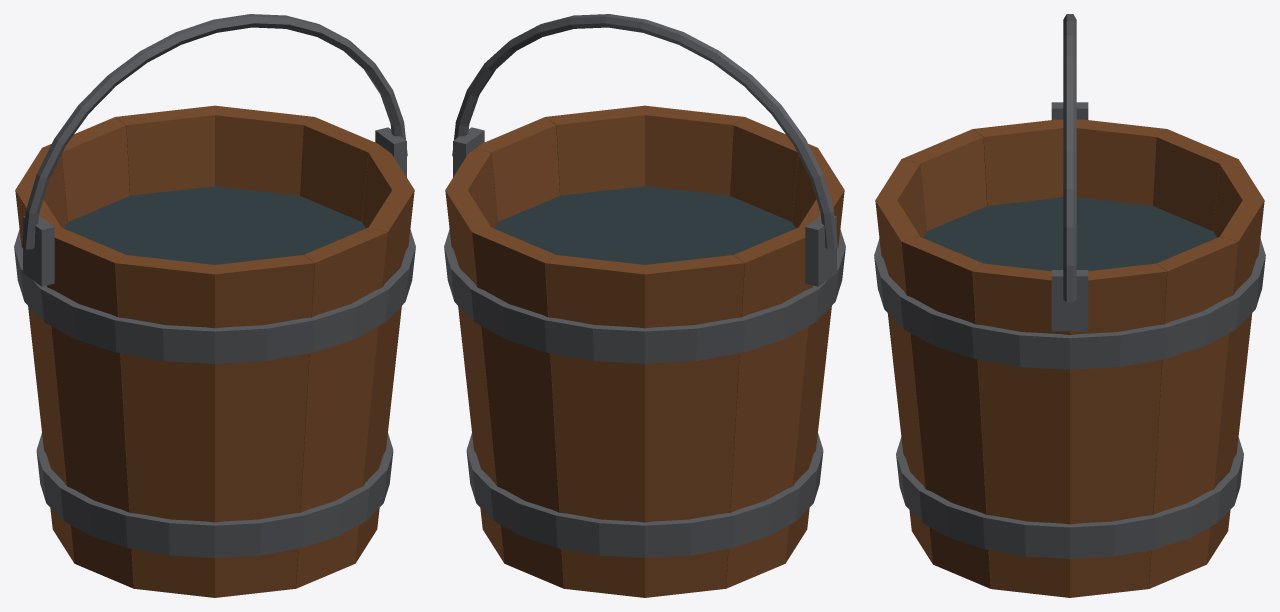
File: water-bucket_final.glb
3 views of the same model, side by side, from view 1: azimuth 30°, elevation 25°; view 2: azimuth 150°, elevation 25°; view 3: azimuth 270°, elevation 25° (orthographic). The views are drawn at different scales.
Parts seen in each view (by area): view 1: SM_WaterBucket_Staves, SM_WaterBucket_Water, SM_WaterBucket_Hoop_02, SM_WaterBucket_Hoop_01, SM_WaterBucket_Handle, SM_WaterBucket_Ears; view 2: SM_WaterBucket_Staves, SM_WaterBucket_Water, SM_WaterBucket_Hoop_02, SM_WaterBucket_Hoop_01, SM_WaterBucket_Handle, SM_WaterBucket_Ears; view 3: SM_WaterBucket_Staves, SM_WaterBucket_Water, SM_WaterBucket_Hoop_02, SM_WaterBucket_Hoop_01, SM_WaterBucket_Handle, SM_WaterBucket_Ears.
Boxes of the visible parts, box(x1,y1,x2,y2) form: SM_WaterBucket_Staves: box(15, 105, 414, 597); SM_WaterBucket_Water: box(64, 186, 365, 264); SM_WaterBucket_Hoop_02: box(14, 229, 415, 363); SM_WaterBucket_Hoop_01: box(36, 433, 393, 557); SM_WaterBucket_Handle: box(22, 14, 407, 249); SM_WaterBucket_Ears: box(23, 127, 406, 286); SM_WaterBucket_Staves: box(445, 105, 844, 597); SM_WaterBucket_Water: box(494, 186, 795, 264); SM_WaterBucket_Hoop_02: box(444, 229, 845, 363); SM_WaterBucket_Hoop_01: box(466, 433, 823, 557); SM_WaterBucket_Handle: box(452, 14, 837, 249); SM_WaterBucket_Ears: box(453, 127, 836, 286); SM_WaterBucket_Staves: box(875, 119, 1264, 597); SM_WaterBucket_Water: box(923, 197, 1216, 271); SM_WaterBucket_Hoop_02: box(874, 238, 1265, 369); SM_WaterBucket_Hoop_01: box(896, 437, 1243, 558); SM_WaterBucket_Handle: box(1063, 14, 1076, 302); SM_WaterBucket_Ears: box(1051, 102, 1088, 331).
Bounding box in the file's own units: 0.3535 × 0.4496 × 0.322.
